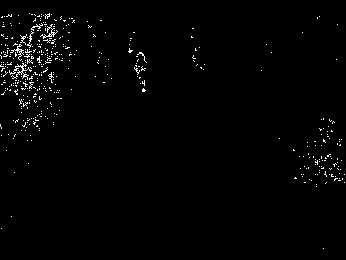person: (132, 48, 153, 93)
